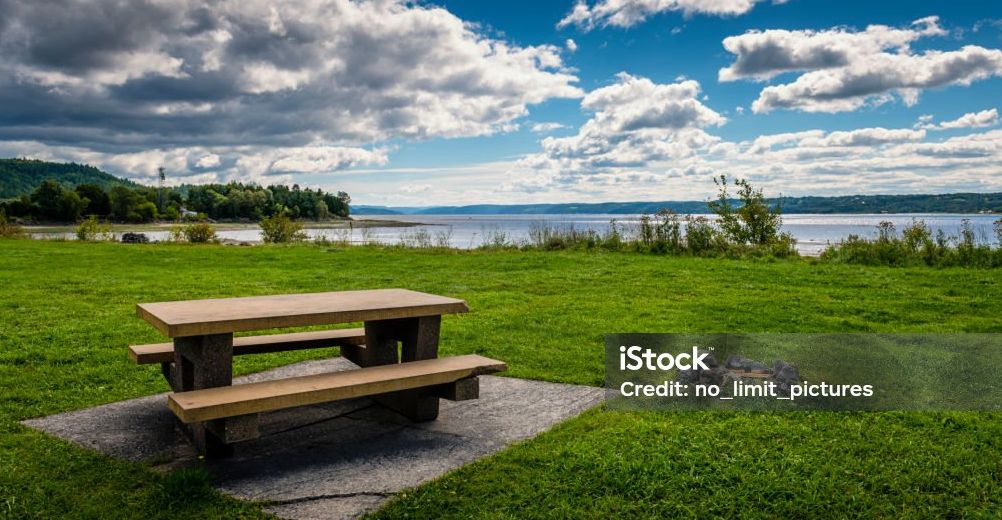obstacle: (126, 286, 513, 445)
